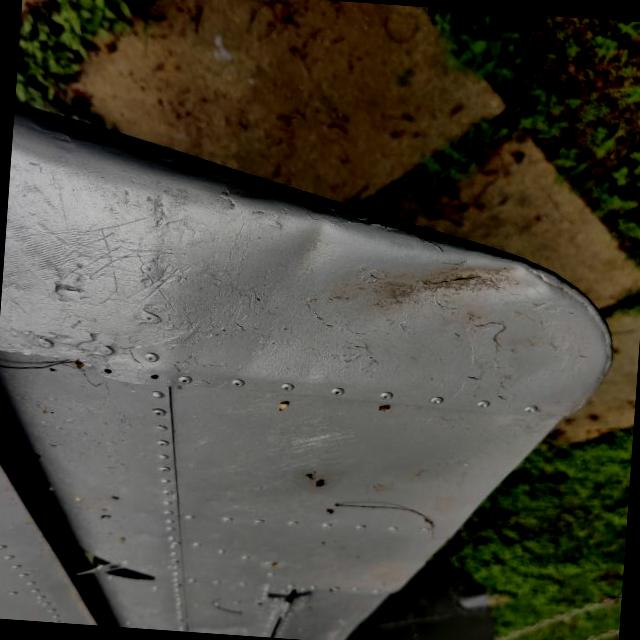dent: (244, 178, 370, 308)
scratch: (0, 185, 132, 332)
